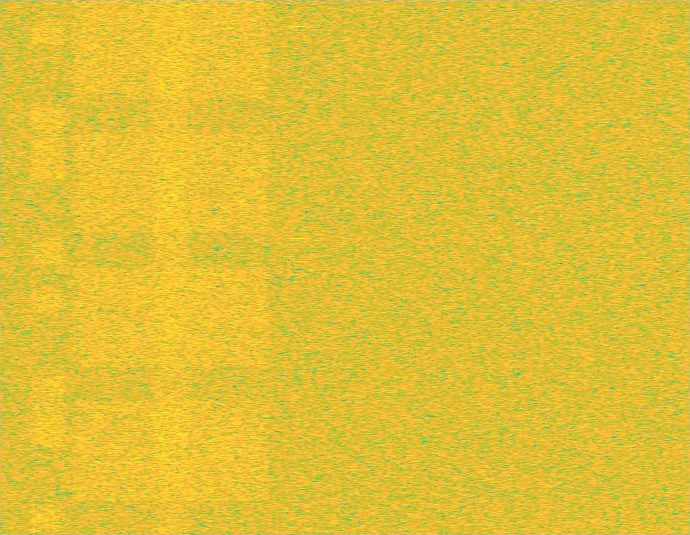5G: (68, 0, 275, 534)
DSSS: (148, 0, 194, 534)
LTE: (31, 0, 65, 534)
Radar: (292, 0, 306, 534)
